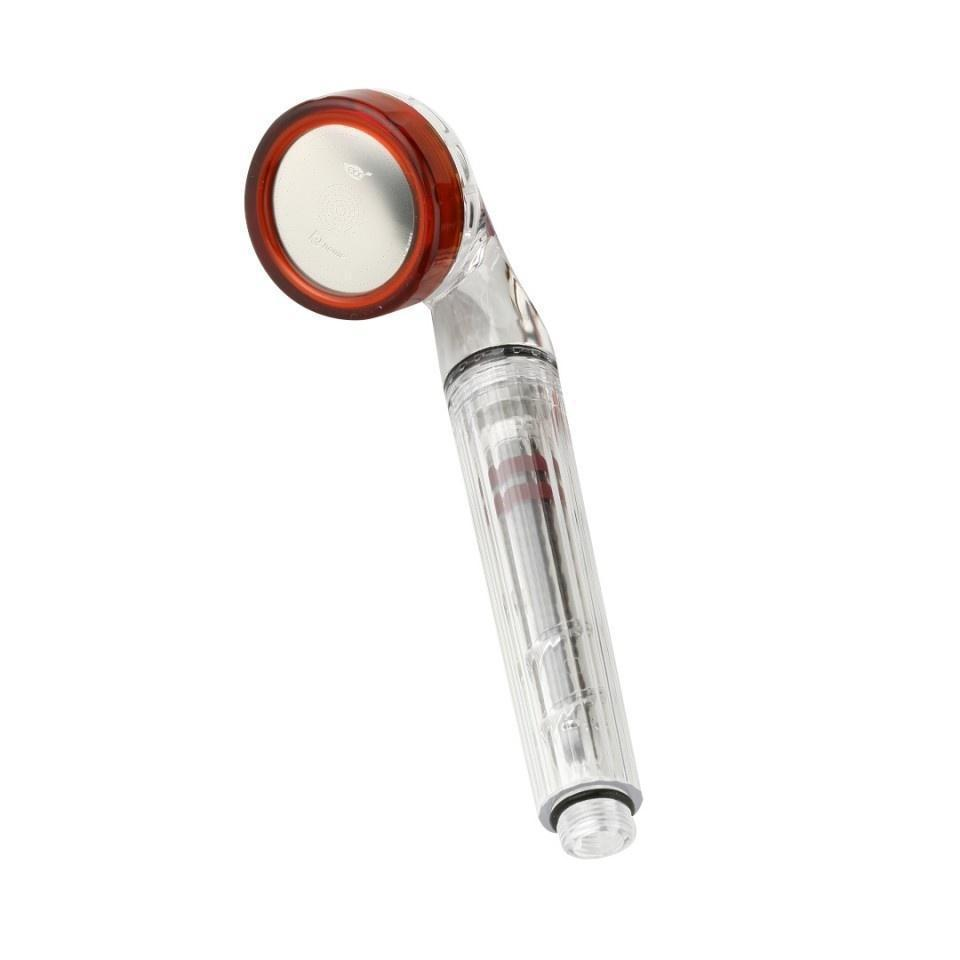Ducha: (243, 81, 682, 883)
